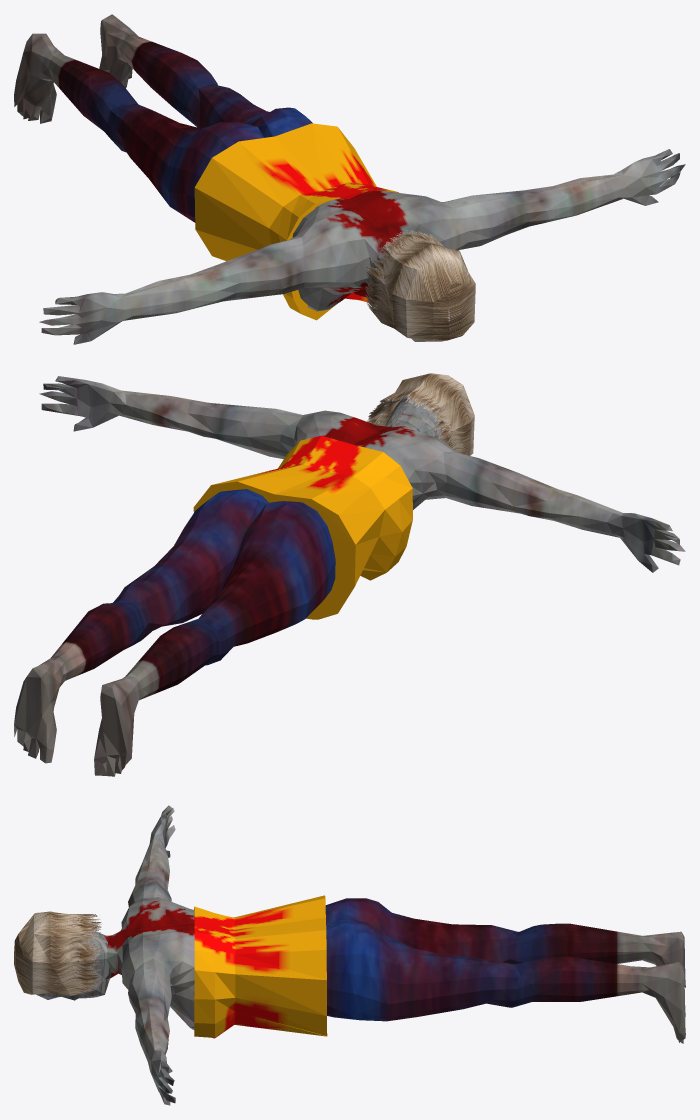
File: zombiechick_alt_wtf.obj
The picture shows the model from 3 angles, top to bottom: view 1: azimuth 30°, elevation 25°; view 2: azimuth 150°, elevation 25°; view 3: azimuth 270°, elevation 25°; orthographic projection. The views are drawn at different scales.
Parts seen in each view (by area): view 1: group4, group3, group5; view 2: group4, group3, group5, group1; view 3: group4, group3, group5, group1.
Part boxes in pixels (left/top/right/bottom): group4: left=14, top=14, right=685, bottom=344; group3: left=194, top=123, right=398, bottom=320; group5: left=365, top=230, right=475, bottom=341; group4: left=14, top=376, right=685, bottom=776; group3: left=193, top=435, right=412, bottom=619; group5: left=366, top=373, right=474, bottom=455; group1: left=385, top=389, right=456, bottom=446; group4: left=104, top=805, right=685, bottom=1105; group3: left=194, top=895, right=327, bottom=1038; group5: left=14, top=911, right=102, bottom=995; group1: left=46, top=922, right=111, bottom=997.
Bounding box in the file's own units: 645 × 127 × 660.
